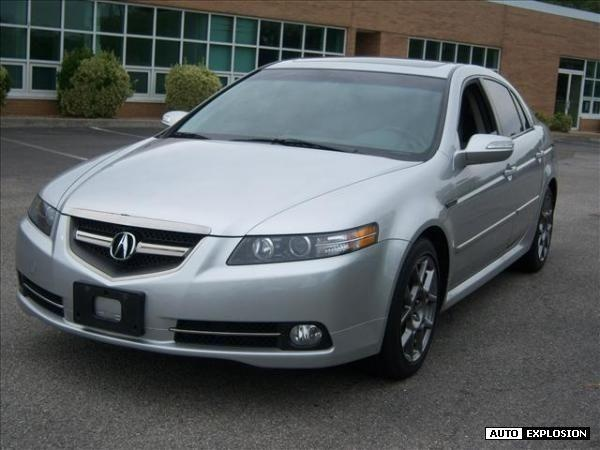car: (1, 44, 576, 392)
